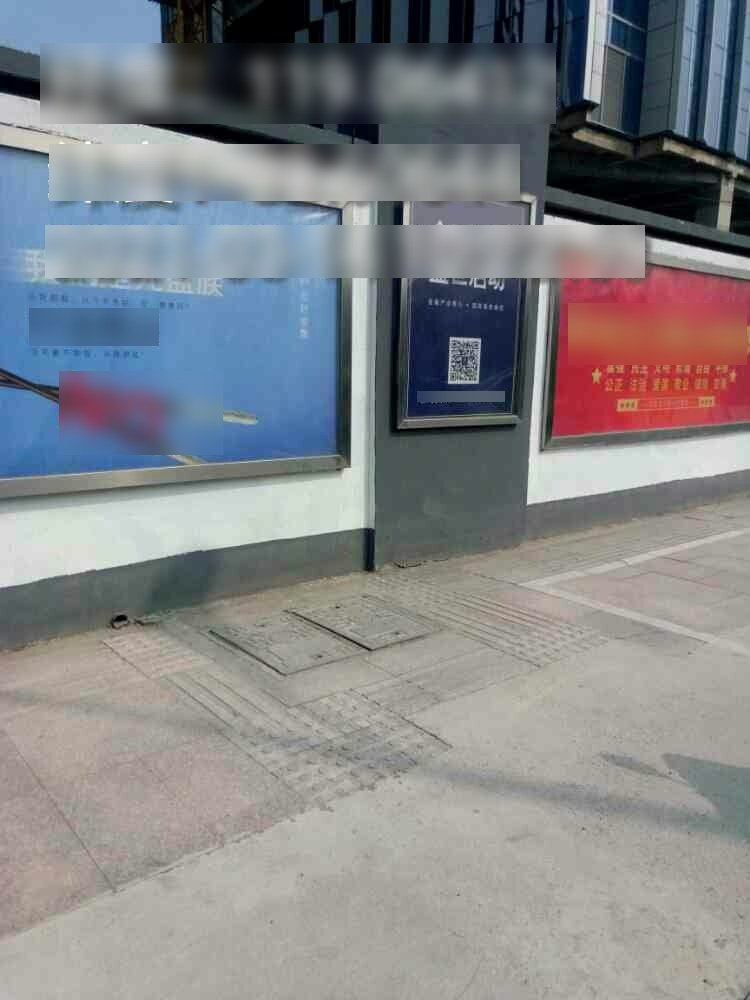good: (200, 591, 444, 675)
